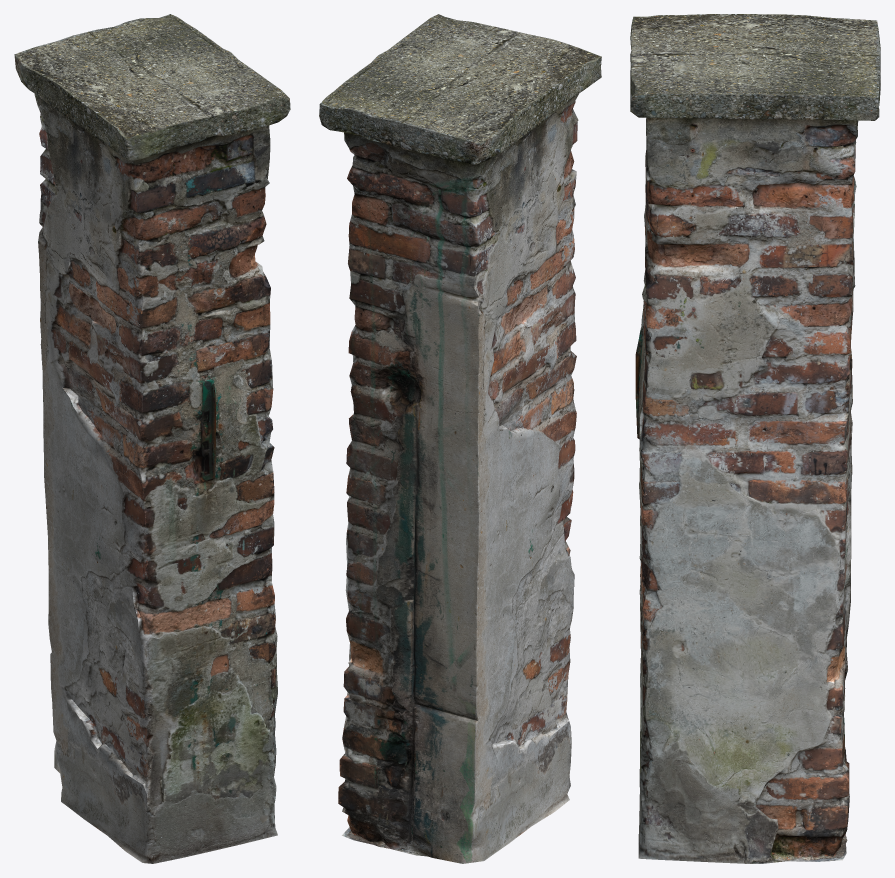
The model's file is sm_Column_02_01.fbx.
The picture shows the model from 3 angles, left to right: view 1: azimuth 30°, elevation 25°; view 2: azimuth 150°, elevation 25°; view 3: azimuth 270°, elevation 25°; orthographic projection. The views are drawn at different scales.
Parts seen in each view (by area): view 1: sm_Column_02_01_LOD0; view 2: sm_Column_02_01_LOD0; view 3: sm_Column_02_01_LOD0.
Boxes of the visible parts, x1,y1,x2,y2 form: sm_Column_02_01_LOD0: (14,14,290,863); sm_Column_02_01_LOD0: (319,14,601,863); sm_Column_02_01_LOD0: (630,14,880,863).
Size of the model in its own units: 51.98 by 66.03 by 224.
